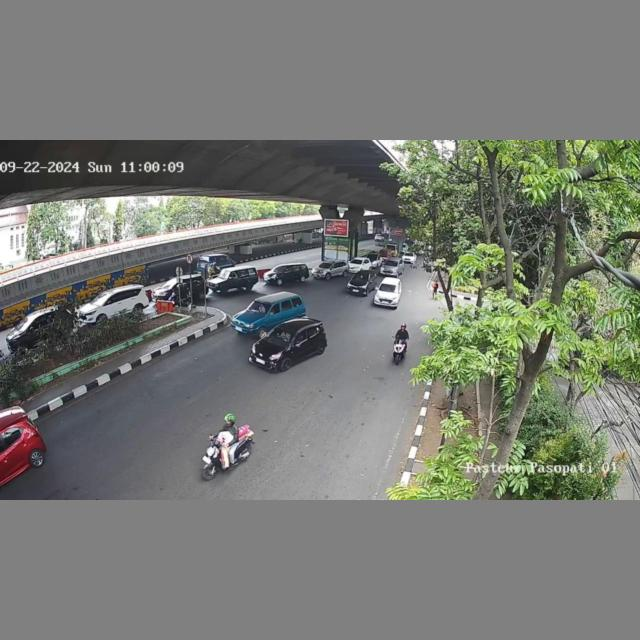windshield: (266, 329, 296, 344), (247, 300, 270, 315), (379, 283, 398, 293), (354, 274, 369, 281), (384, 260, 399, 266)
